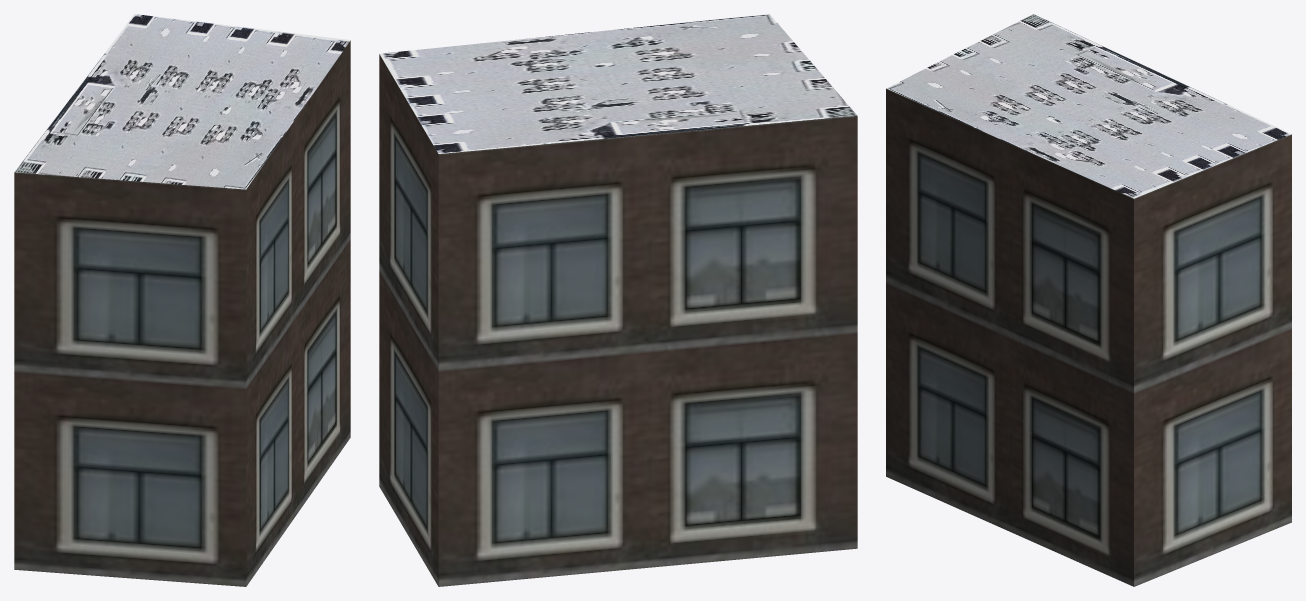
File: ResTex__1573.fbx
3 renders of one model, left to right at view 1: azimuth 30°, elevation 25°; view 2: azimuth 150°, elevation 25°; view 3: azimuth 270°, elevation 25°, orthographic. The views are drawn at different scales.
Visible parts, largest first — view 1: CityEngineMaterial_16_m, CityEngineMaterial_15_m; view 2: CityEngineMaterial_16_m, CityEngineMaterial_15_m; view 3: CityEngineMaterial_16_m, CityEngineMaterial_15_m.
Part boxes in pixels (<box>): CityEngineMaterial_16_m: <box>14,40,350,586</box>; CityEngineMaterial_15_m: <box>14,14,350,189</box>; CityEngineMaterial_16_m: <box>379,54,857,586</box>; CityEngineMaterial_15_m: <box>379,14,857,153</box>; CityEngineMaterial_16_m: <box>886,88,1291,586</box>; CityEngineMaterial_15_m: <box>886,14,1291,198</box>.
Size of the model in its own units: 6.13 by 6 by 5.69.
Materials: 2 (2 with a texture image).
